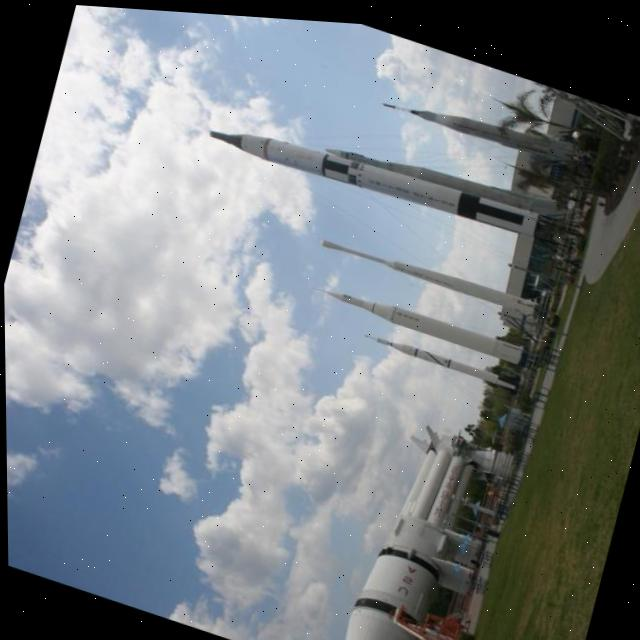missile: (209, 99, 558, 247), (326, 400, 476, 640), (319, 274, 522, 360)
